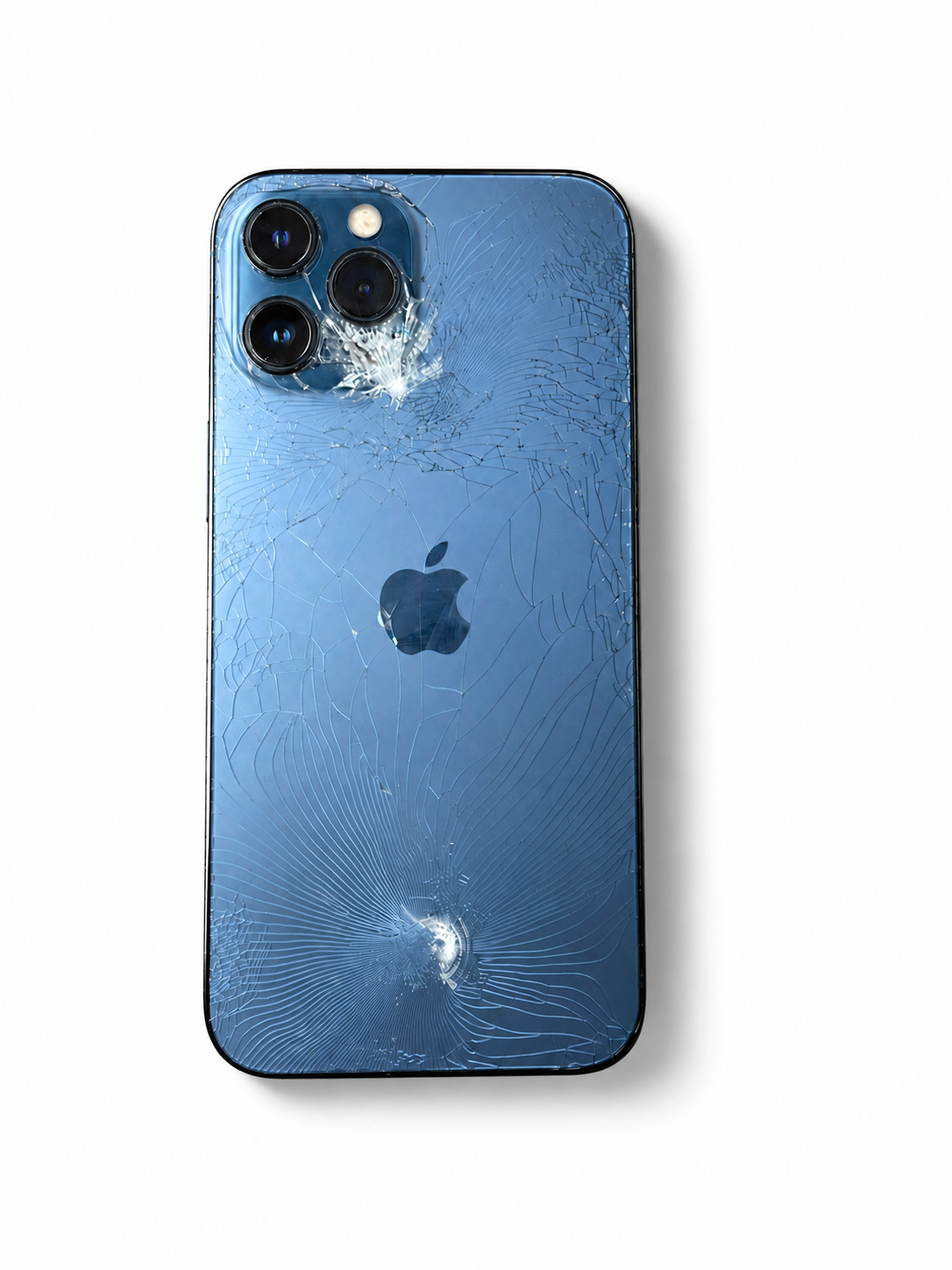iphone_12_pro_max_Crack: (159, 123, 700, 1135)
